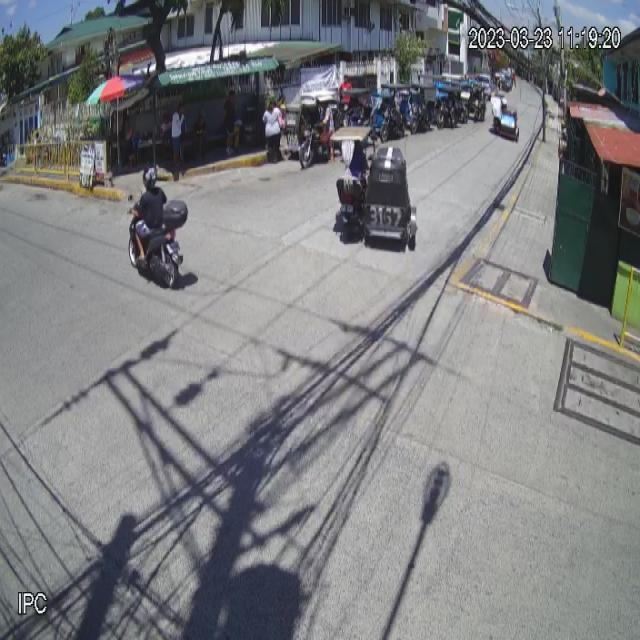Motorcycle: (125, 188, 189, 292)
Tricycle: (330, 124, 419, 253)
